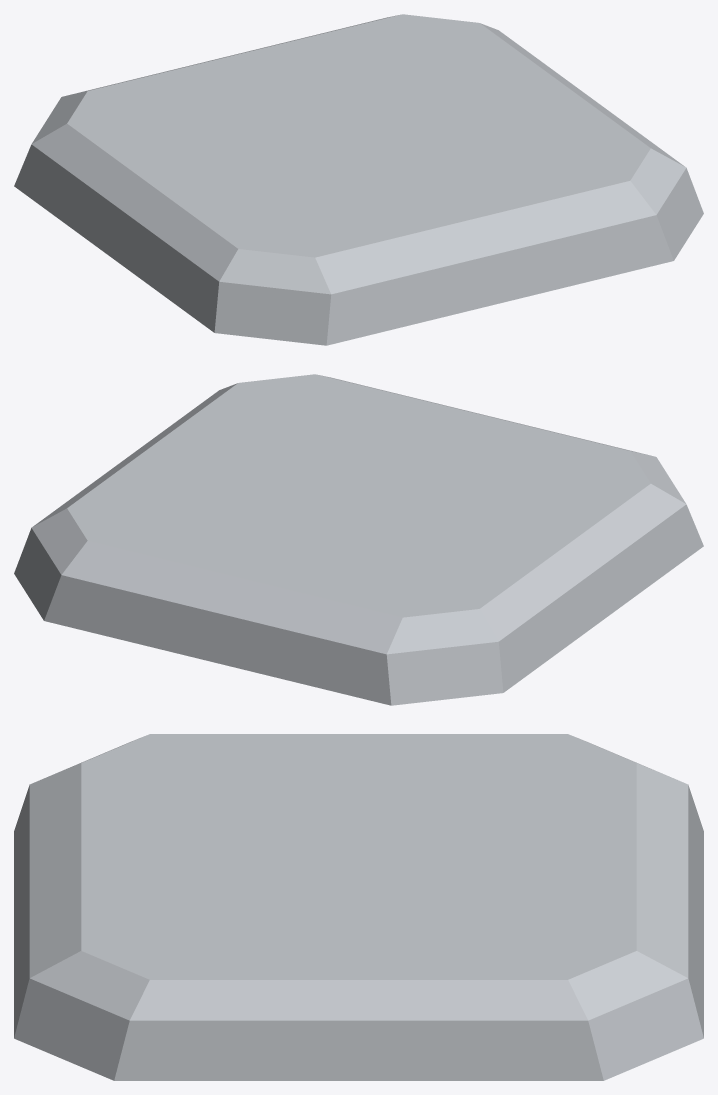
Rendered from Rock_Tile_m_12.fbx.
The picture shows the model from 3 angles, top to bottom: view 1: azimuth 30°, elevation 25°; view 2: azimuth 150°, elevation 25°; view 3: azimuth 270°, elevation 25°; orthographic projection. The views are drawn at different scales.
Visible parts, largest first — view 1: Rock_Tile_m_12; view 2: Rock_Tile_m_12; view 3: Rock_Tile_m_12.
Boxes of the visible parts, x1,y1,x2,y2 form: Rock_Tile_m_12: (14,14,703,345); Rock_Tile_m_12: (14,374,703,705); Rock_Tile_m_12: (14,734,703,1080).
Size of the model in its own units: 40 by 5 by 40.
